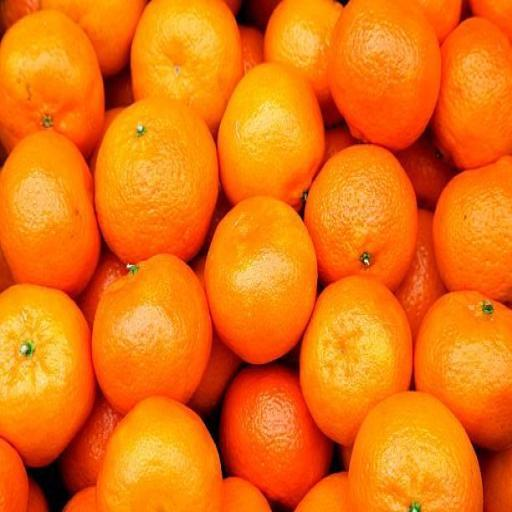orange: (97, 100, 219, 261), (302, 278, 413, 444), (94, 258, 212, 412), (205, 201, 317, 360), (0, 285, 98, 464), (328, 0, 441, 151), (0, 135, 102, 294), (305, 145, 418, 288), (352, 392, 484, 511), (415, 289, 511, 447), (0, 14, 105, 154), (220, 66, 324, 207), (130, 0, 245, 116)
